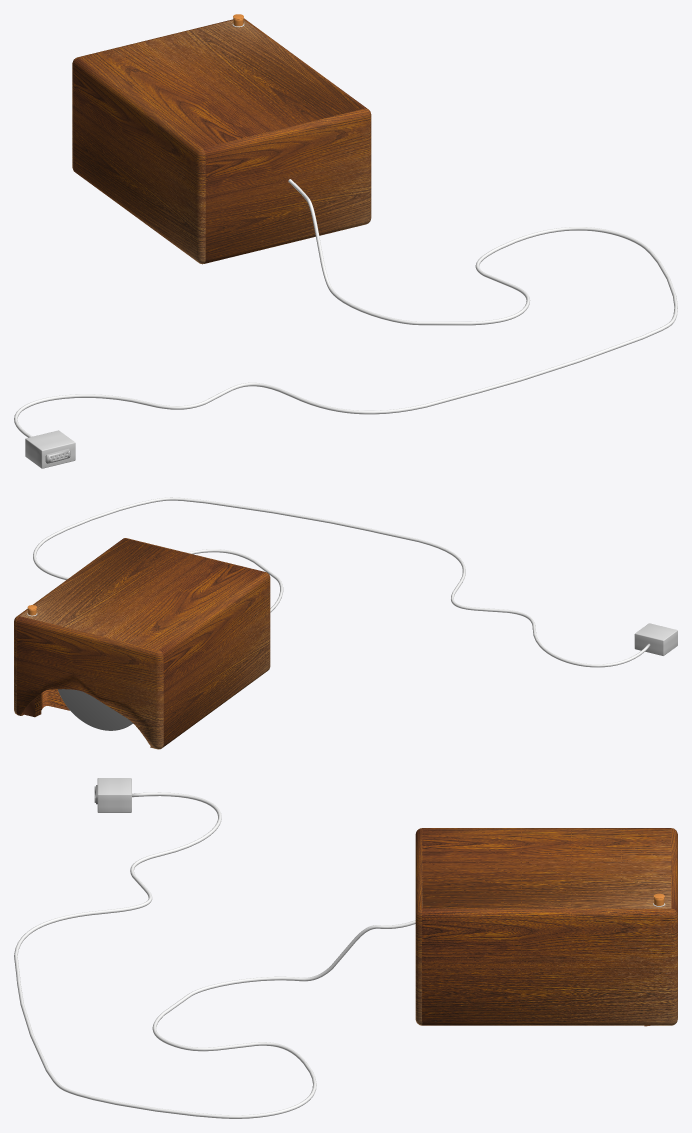
Rendered from engelbart-mouse.glb.
3 renders of one model, top to bottom at view 1: azimuth 30°, elevation 25°; view 2: azimuth 150°, elevation 25°; view 3: azimuth 270°, elevation 25°, orthographic. The views are drawn at different scales.
Visible parts, largest first — view 1: MouseBase, Cord_Mouse, Cord_plug_Plastic; view 2: MouseBase, Cord_Mouse, Cylinder_front, Cord_plug_Plastic; view 3: MouseBase, Cord_Mouse, Cord_plug_Plastic.
Boxes of the visible parts, x1=… form: MouseBase: x1=72, y1=18, x2=371, y2=264; Cord_Mouse: x1=14, y1=179, x2=677, y2=437; Cord_plug_Plastic: x1=25, y1=430, x2=75, y2=468; MouseBase: x1=14, y1=538, x2=270, y2=749; Cord_Mouse: x1=33, y1=497, x2=650, y2=667; Cylinder_front: x1=58, y1=689, x2=132, y2=730; Cord_plug_Plastic: x1=634, y1=623, x2=677, y2=655; MouseBase: x1=415, y1=828, x2=677, y2=1026; Cord_Mouse: x1=14, y1=792, x2=415, y2=1118; Cord_plug_Plastic: x1=97, y1=778, x2=131, y2=812.
Bounding box in the file's own units: 0.14 × 0.0265 × 0.1188.
Materials: 8 (1 with a texture image).
